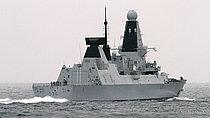MIL_Ship: (30, 8, 188, 102)
